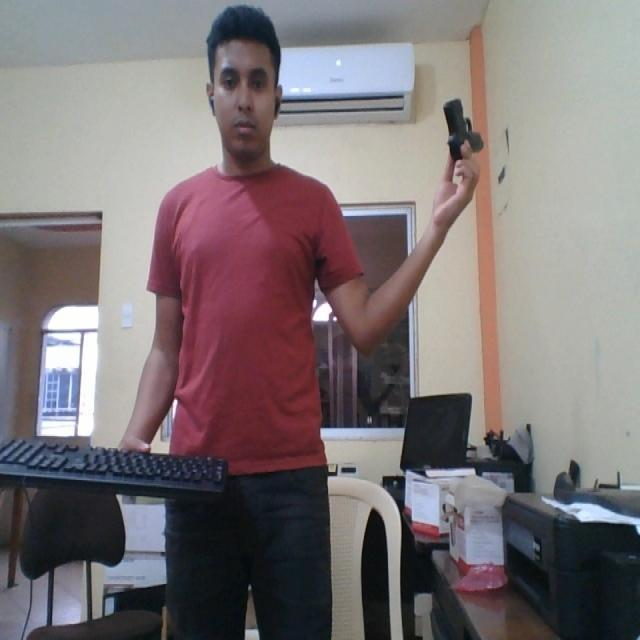weapon: (442, 96, 484, 166)
